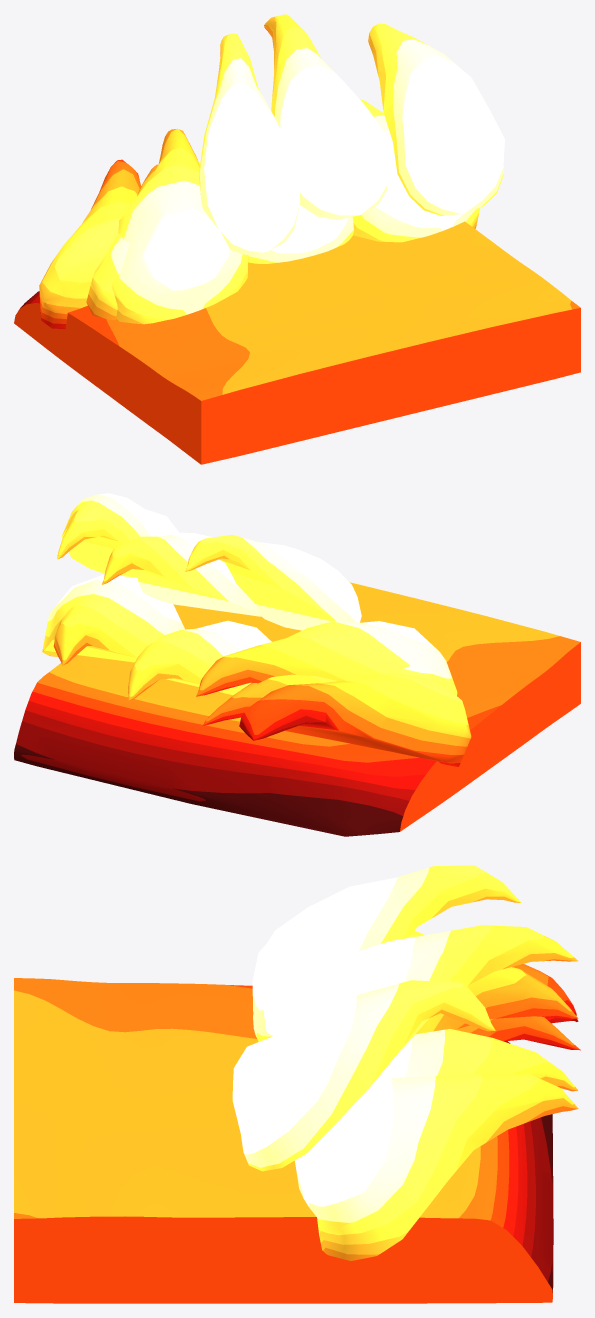
The model's file is fire_tail_c.glb.
The picture shows the model from 3 angles, top to bottom: view 1: azimuth 30°, elevation 25°; view 2: azimuth 150°, elevation 25°; view 3: azimuth 270°, elevation 25°; orthographic projection. The views are drawn at different scales.
Visible parts, largest first — view 1: fire_tail_c; view 2: fire_tail_c; view 3: fire_tail_c.
Boxes of the visible parts, left/top/right/bottom form: fire_tail_c: left=14, top=14, right=580, bottom=464; fire_tail_c: left=14, top=493, right=580, bottom=836; fire_tail_c: left=14, top=865, right=580, bottom=1303.
Size of the model in its own units: 27.61 by 15.13 by 23.8.
